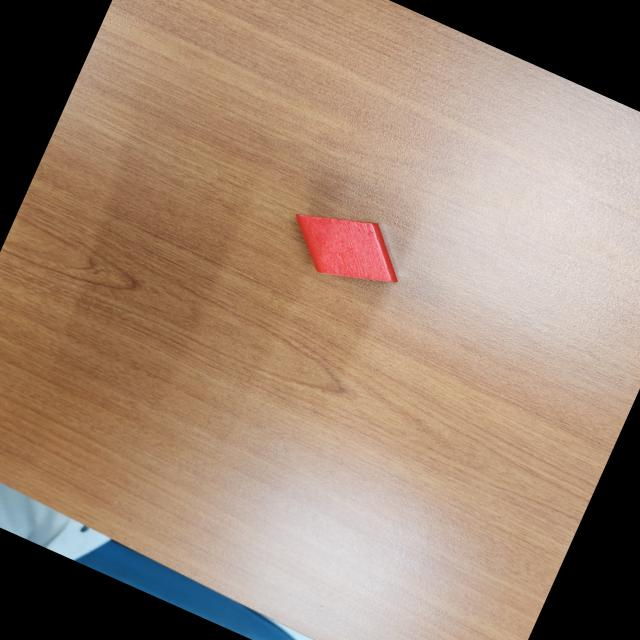red: (277, 192, 417, 306)
